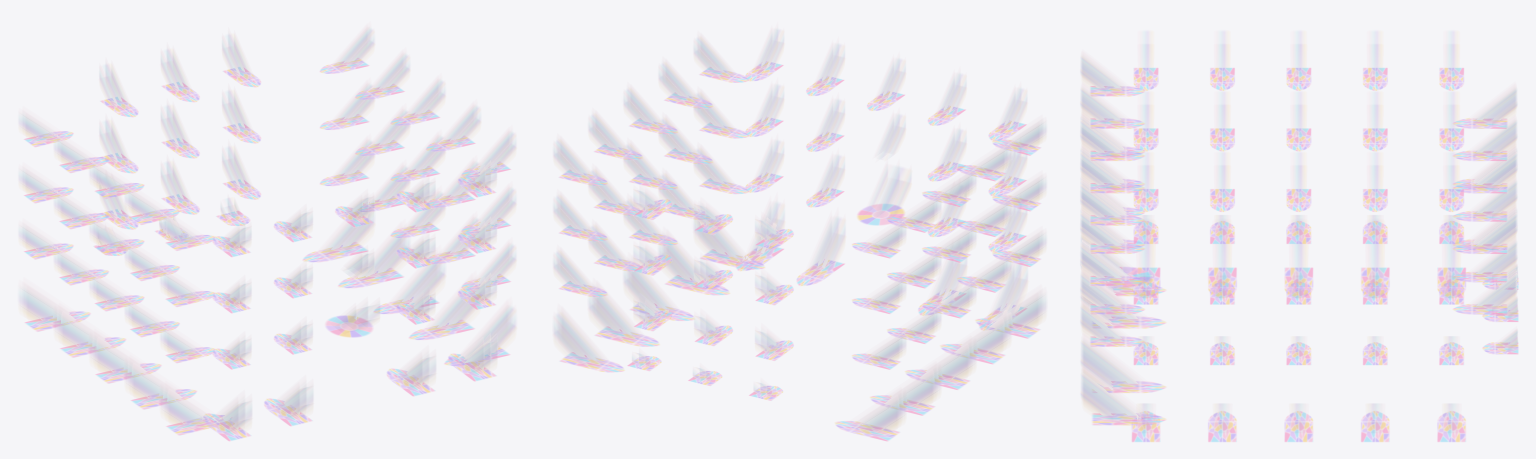
Rendered from citadel_shafts.glb.
3 views of the same model, side by side, from view 1: azimuth 30°, elevation 25°; view 2: azimuth 150°, elevation 25°; view 3: azimuth 270°, elevation 25° (orthographic). The views are drawn at different scales.
Parts seen in each view (by area): view 1: shafts_shaft_cards, shafts_shaft_pool_cards, shafts_rose_pool_cards; view 2: shafts_shaft_cards, shafts_shaft_pool_cards, shafts_rose_pool_cards; view 3: shafts_shaft_pool_cards, shafts_shaft_cards, shafts_rose_pool_cards.
Part boxes in pixels (x1,y1,x2,y2): shafts_shaft_cards: (19, 27, 516, 431); shafts_shaft_pool_cards: (24, 58, 510, 441); shafts_rose_pool_cards: (325, 315, 373, 337); shafts_shaft_cards: (553, 28, 1045, 432); shafts_shaft_pool_cards: (559, 61, 1040, 441); shafts_rose_pool_cards: (857, 204, 904, 225); shafts_shaft_pool_cards: (1090, 68, 1518, 441); shafts_shaft_cards: (1080, 31, 1517, 428); shafts_rose_pool_cards: (1097, 267, 1151, 287).
Size of the model in its own units: 46 by 28.65 by 46.34.
3 materials, 3 textured.
